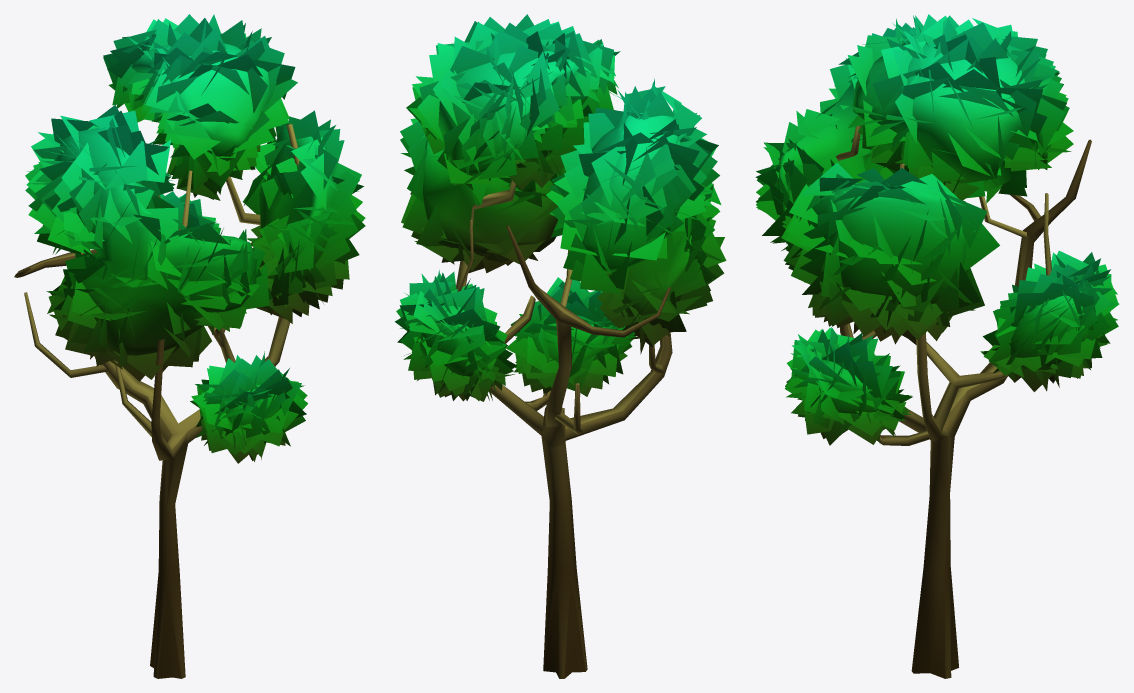
File: Forest_Tree_7B.fbx
3 views of the same model, side by side, from view 1: azimuth 30°, elevation 25°; view 2: azimuth 150°, elevation 25°; view 3: azimuth 270°, elevation 25° (orthographic). The views are drawn at different scales.
Parts seen in each view (by area): view 1: Forest_Tree_7B; view 2: Forest_Tree_7B; view 3: Forest_Tree_7B.
Boxes of the visible parts, x1,y1,x2,y2 form: Forest_Tree_7B: (14, 14, 365, 678); Forest_Tree_7B: (395, 14, 726, 678); Forest_Tree_7B: (755, 14, 1119, 678).
Size of the model in its own units: 339 by 701 by 349.
